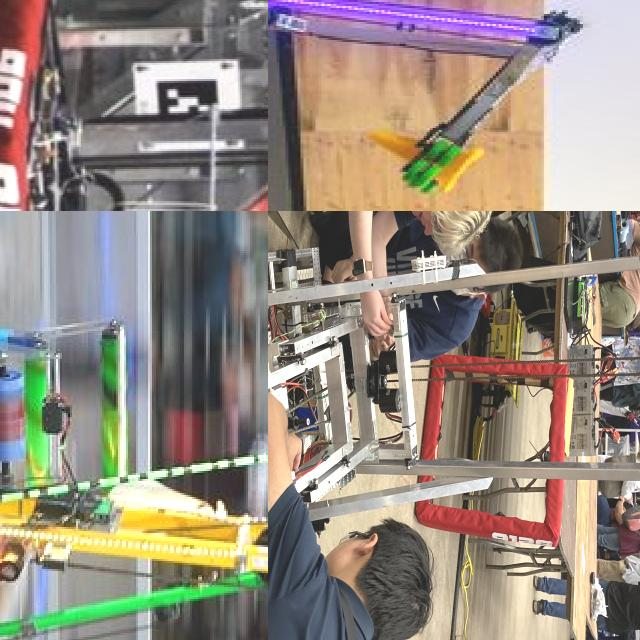FRC-Robots: (268, 211, 640, 640), (0, 271, 268, 640), (268, 0, 598, 201), (0, 0, 268, 211)
